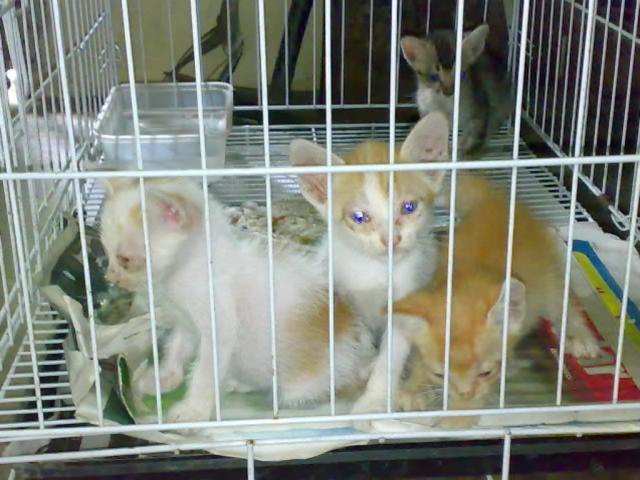Cat: (93, 165, 379, 432), (384, 175, 599, 432), (287, 112, 447, 430), (397, 22, 522, 165)
